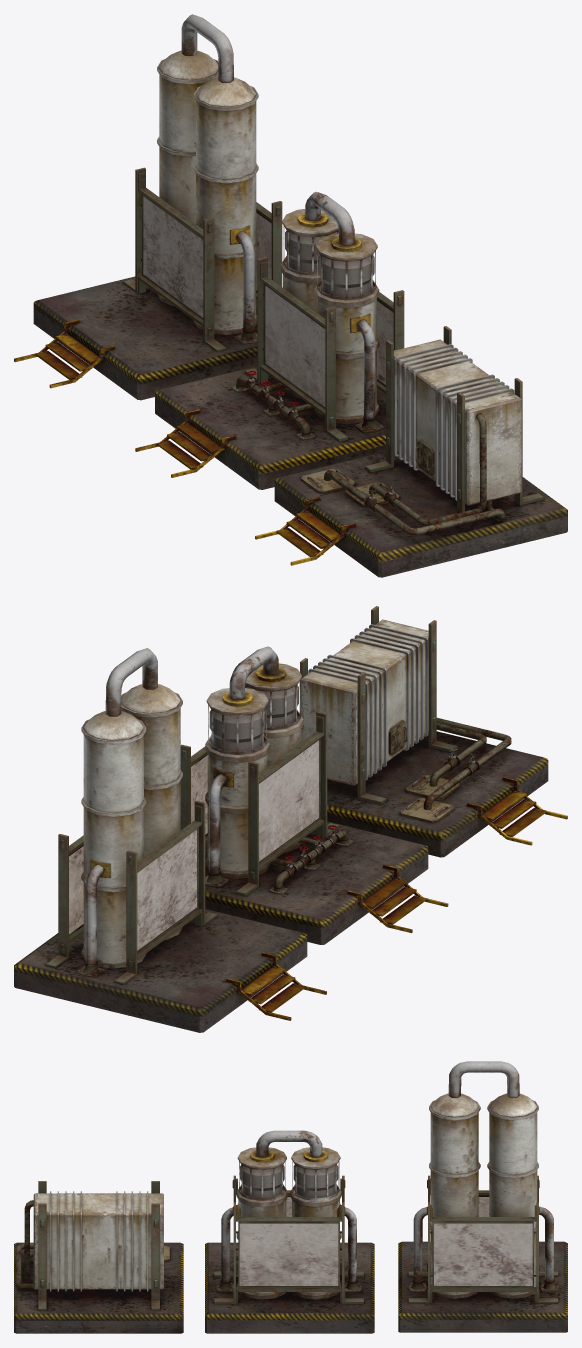
The model's file is oilTank.gltf.
The picture shows the model from 3 angles, top to bottom: view 1: azimuth 30°, elevation 25°; view 2: azimuth 150°, elevation 25°; view 3: azimuth 270°, elevation 25°; orthographic projection. The views are drawn at different scales.
Visible parts, largest first — view 1: defaultMaterial; view 2: defaultMaterial; view 3: defaultMaterial.
Boxes of the visible parts, <box> form: defaultMaterial: <box>14,14,567,577</box>; defaultMaterial: <box>14,606,567,1032</box>; defaultMaterial: <box>14,1061,567,1333</box>.
Bounding box in the file's own units: 179 × 218 × 444.
1 material, 1 textured.
